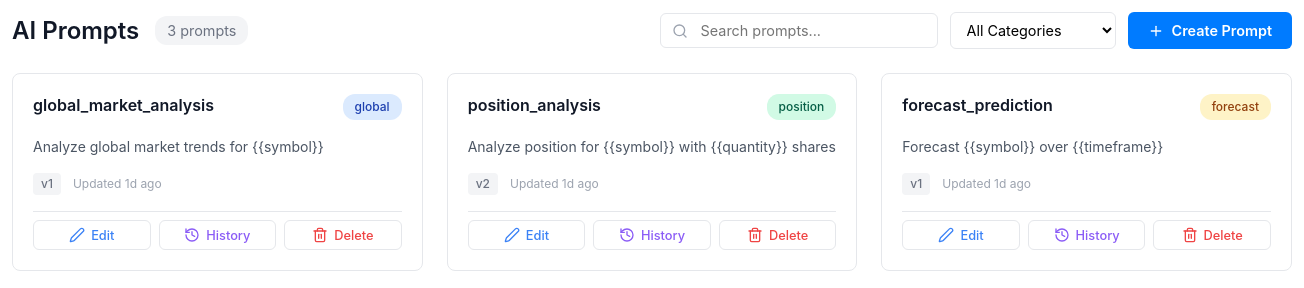
Test: PromptsList › Search Functionality › should filter prompts by name when searching
Type "position" into the field labelled "Search prompts..." at {"x": 798, "y": 30}, box [660,13,938,48]
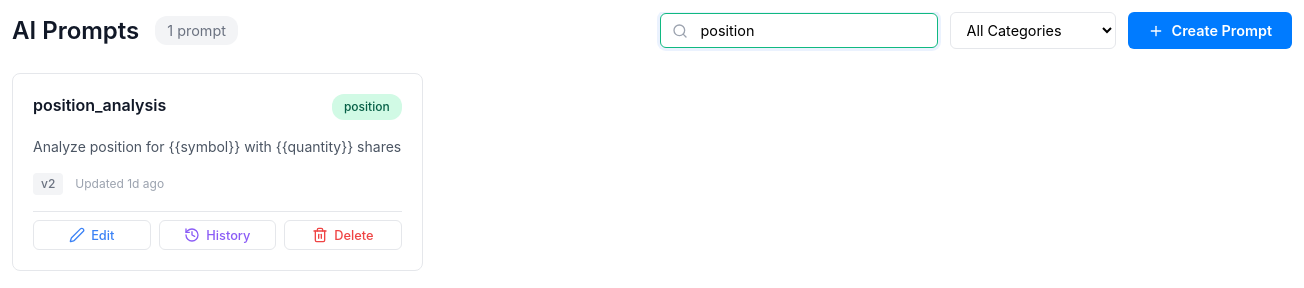
Expected: the heading "position_analysis" is shown, [33,95,166,115]
Expected: the heading "global_market_analysis" is gone
Expected: the heading "forecast_prediction" is gone
